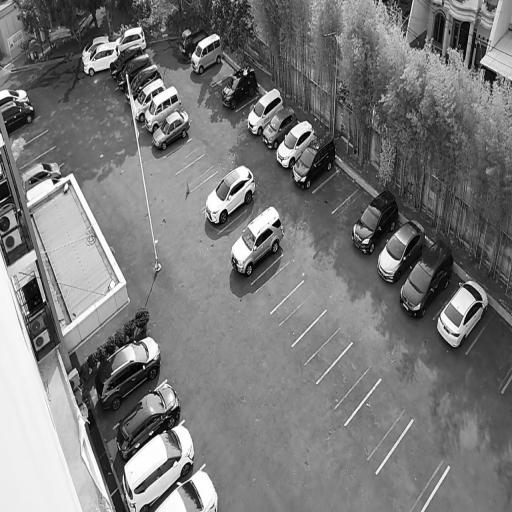Car: (119, 416, 202, 512), (111, 377, 186, 467), (92, 330, 167, 420), (394, 228, 461, 326), (224, 201, 290, 283), (433, 272, 495, 357), (372, 213, 431, 290), (348, 182, 404, 258), (202, 159, 259, 232), (152, 462, 226, 512), (289, 123, 341, 193), (272, 118, 317, 172), (218, 60, 262, 112), (244, 85, 285, 140), (143, 83, 184, 133), (150, 105, 193, 152), (187, 28, 227, 77), (259, 104, 299, 152), (122, 62, 163, 106), (130, 77, 167, 123), (114, 53, 154, 92), (19, 161, 65, 194), (81, 40, 121, 76), (108, 44, 146, 81), (0, 101, 38, 134), (177, 23, 210, 59), (114, 25, 149, 52), (81, 35, 111, 63), (0, 89, 31, 108)
Space Available: (376, 418, 448, 512), (344, 375, 412, 473), (316, 341, 382, 429), (292, 308, 352, 383), (270, 280, 327, 347), (467, 309, 512, 391), (250, 255, 304, 314), (313, 168, 359, 212), (13, 130, 56, 170), (332, 189, 370, 229), (176, 153, 217, 190), (164, 138, 205, 175), (9, 114, 47, 153), (217, 207, 254, 247), (19, 145, 63, 175), (190, 171, 222, 201), (200, 60, 234, 86), (235, 94, 262, 119), (211, 70, 236, 92)
